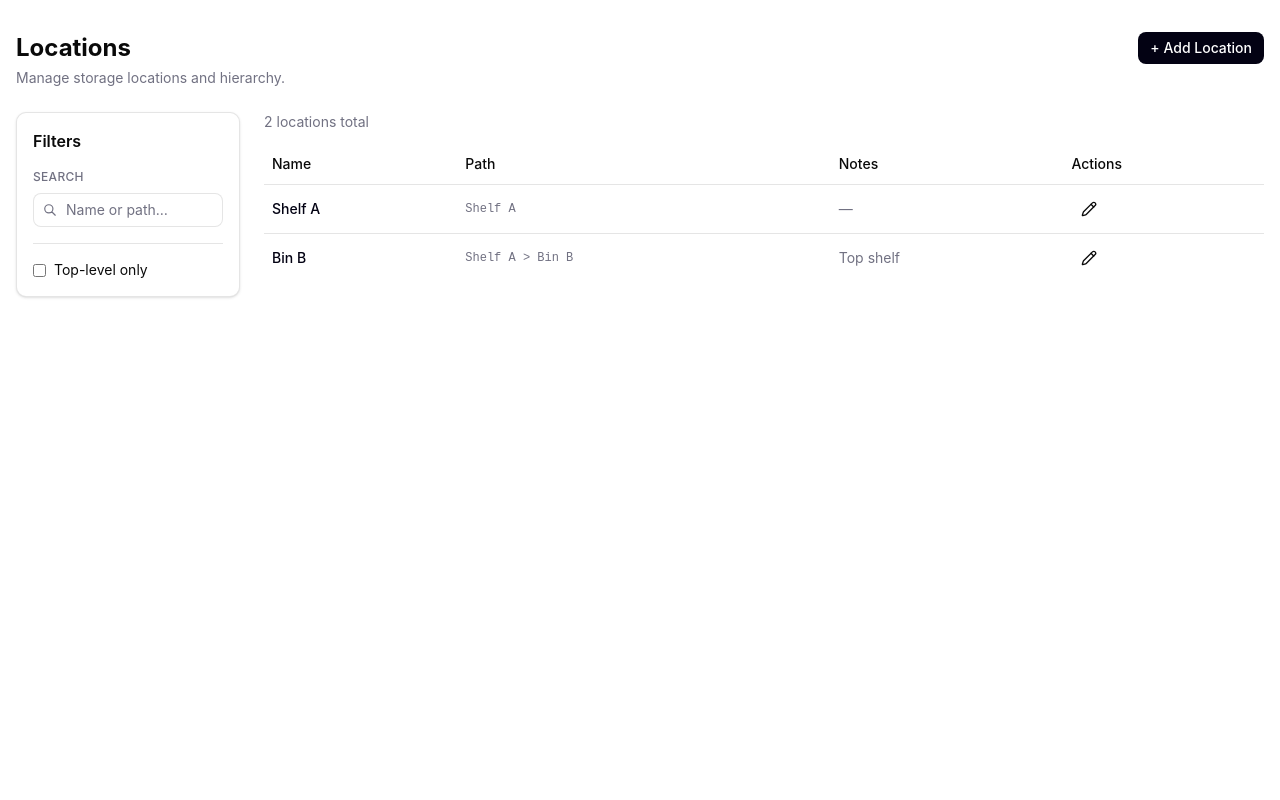
Test: LocationsPage — Add Location dialog › closes the dialog when Cancel is clicked
The width and height of the screenshot is (1280, 800).
Click the button "+ Add Location": (1201, 48) left=1138, top=32, right=1264, bottom=64
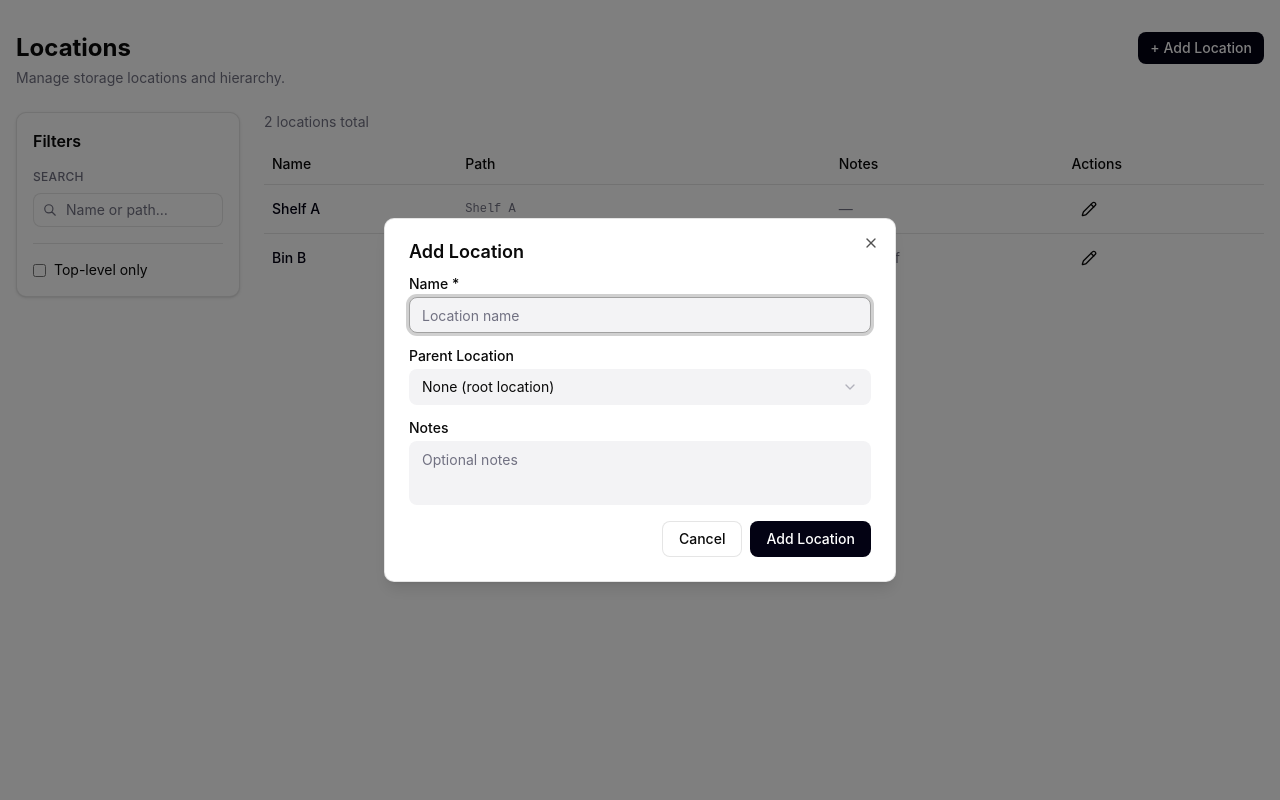
Check: the dialog is shown, box left=384, top=218, right=896, bottom=582
Click the button "Cancel": (702, 539) left=662, top=521, right=742, bottom=557
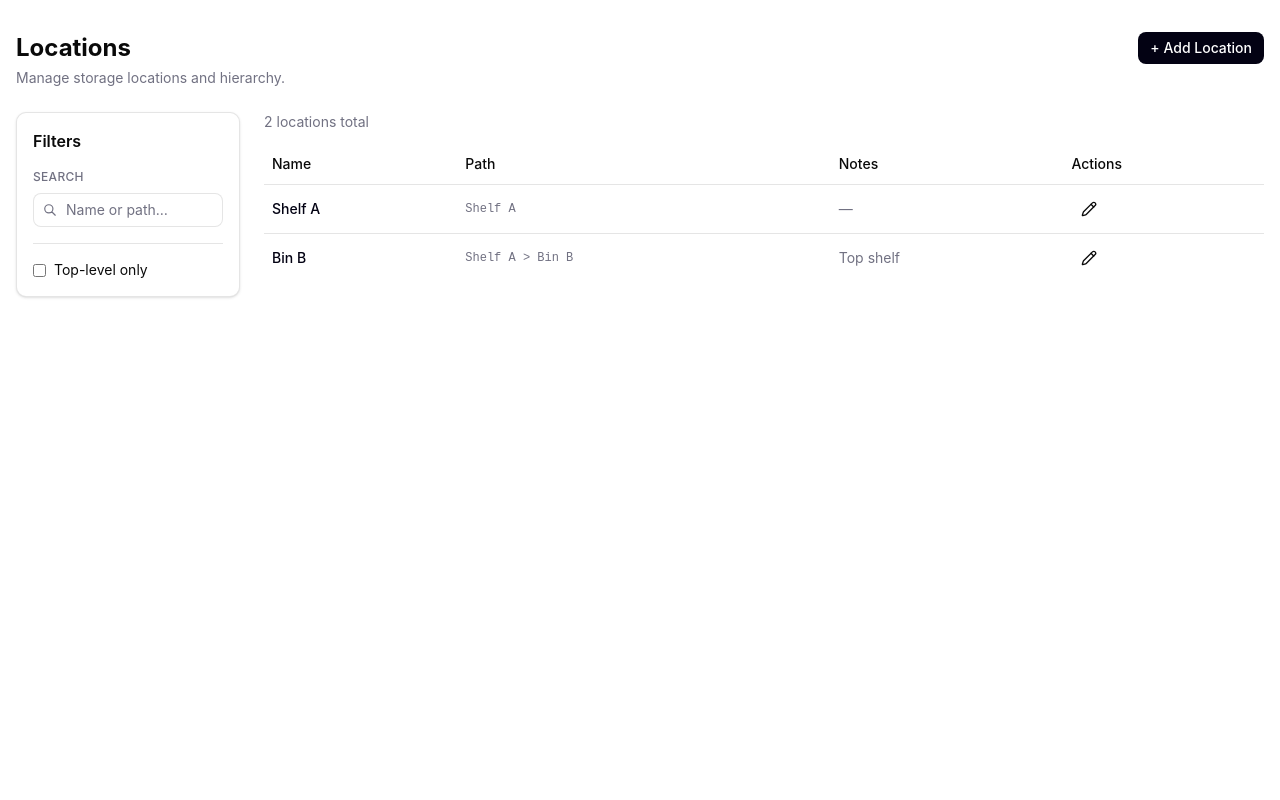
Check: the dialog is gone
